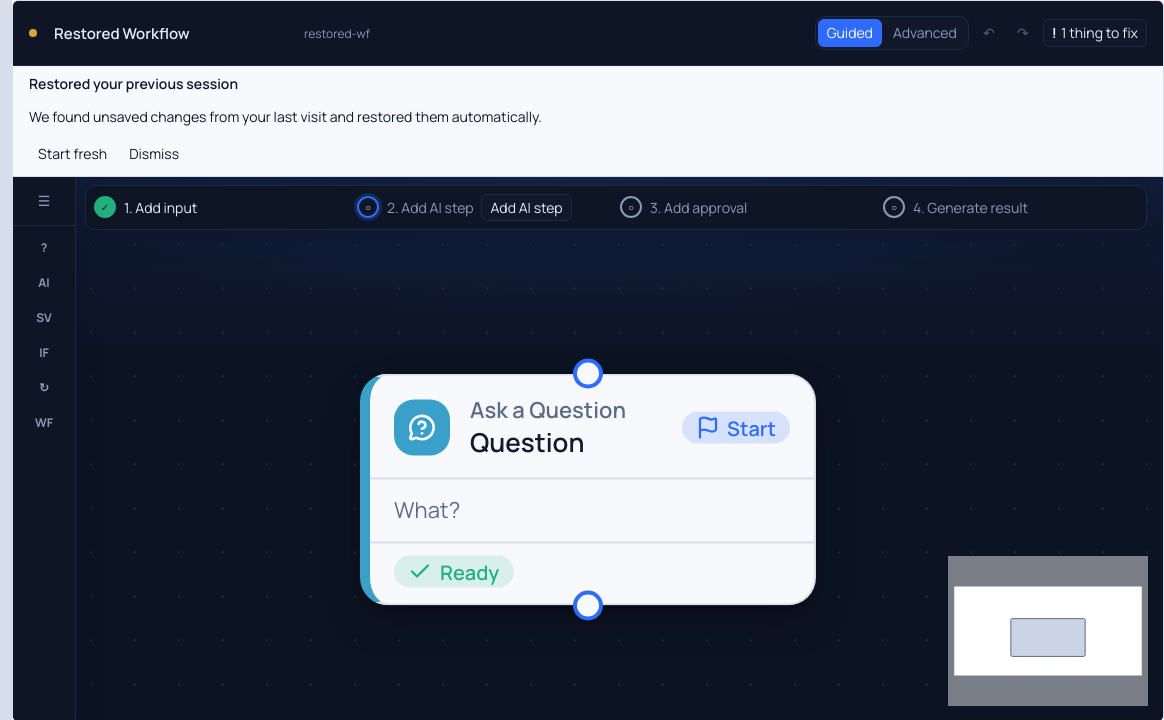
workflow-builder draft persistence › default localStorage adapter › "Dismiss" hides the notice without discarding the restored draft
Expected: the message with test id "draft-restored-banner" is shown, left=13, top=66, right=1163, bottom=176
Click the button with test id "draft-restored-dismiss" at (154, 154), box left=120, top=140, right=188, bottom=168
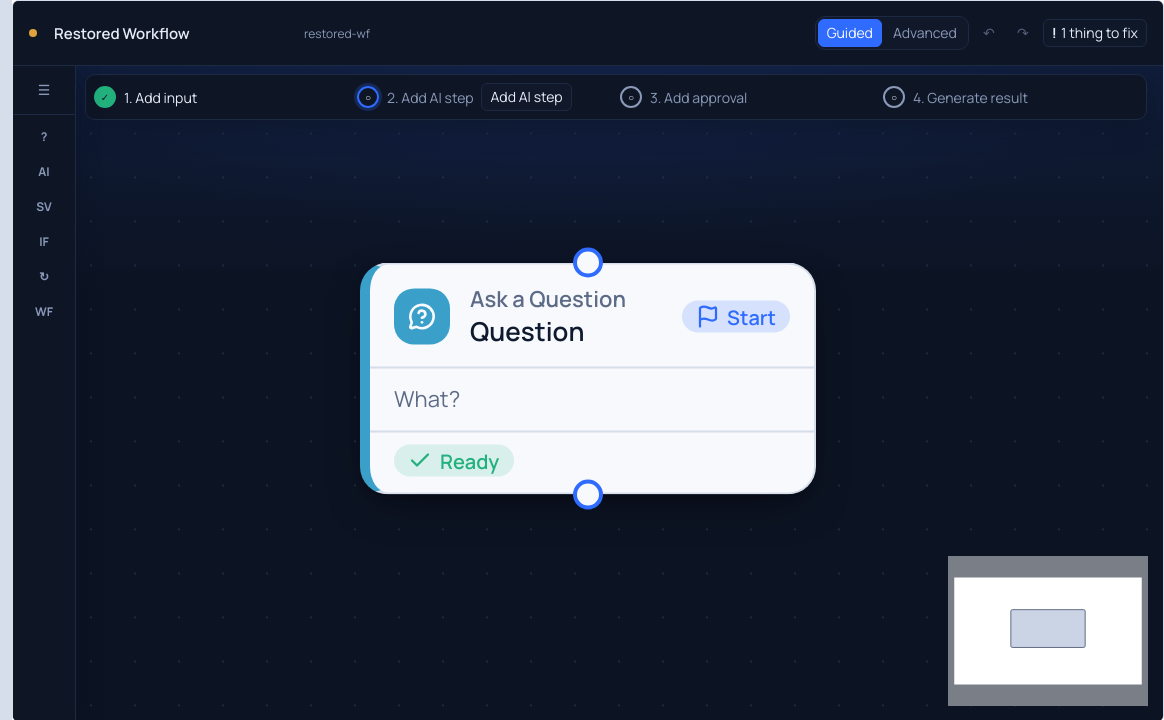
Expected: the field named "Workflow name" holds "Restored Workflow", left=45, top=18, right=287, bottom=48
Now the message with test id "draft-restored-banner" is gone
